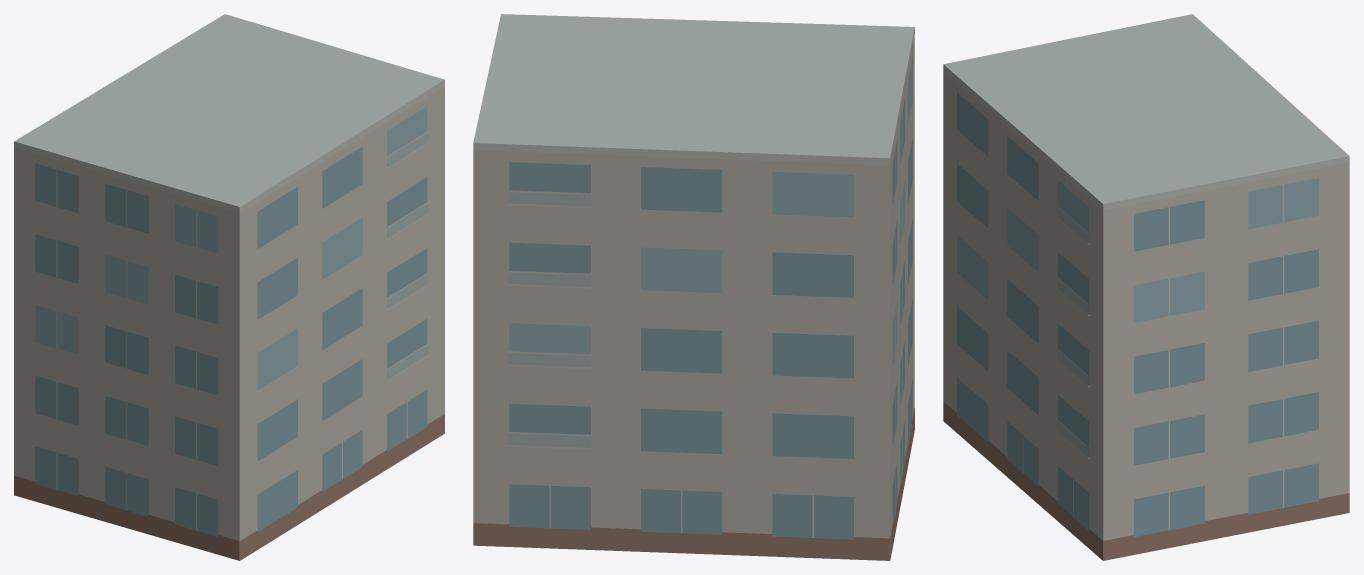
Rendered from survey-upis-32995733.glb.
3 views of the same model, side by side, from view 1: azimuth 30°, elevation 25°; view 2: azimuth 150°, elevation 25°; view 3: azimuth 270°, elevation 25° (orthographic). The views are drawn at different scales.
Visible parts, largest first — view 1: survey-upis-32995733.tmp; view 2: survey-upis-32995733.tmp; view 3: survey-upis-32995733.tmp.
Part boxes in pixels (<box>): survey-upis-32995733.tmp: <box>14,14,444,560</box>; survey-upis-32995733.tmp: <box>473,14,914,560</box>; survey-upis-32995733.tmp: <box>943,14,1349,560</box>.
Size of the model in its own units: 15.89 by 13.9 by 14.36.
